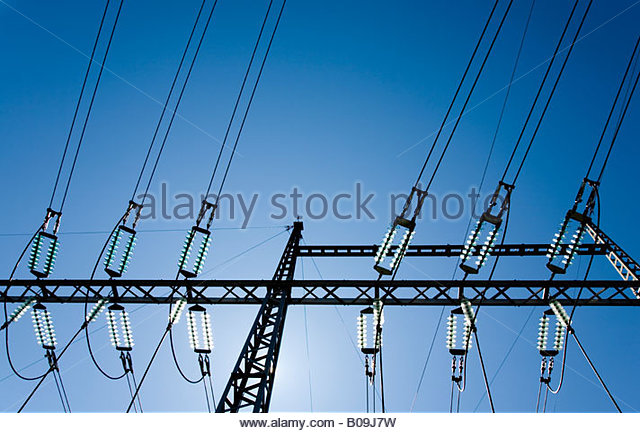isolator: (460, 220, 501, 267), (545, 218, 586, 265), (372, 227, 416, 270), (176, 229, 213, 274), (102, 229, 139, 273), (27, 236, 61, 272), (103, 310, 135, 348), (185, 311, 215, 350), (30, 310, 59, 346), (536, 316, 564, 350), (445, 315, 472, 349), (356, 315, 384, 347), (6, 297, 36, 324), (84, 299, 109, 324), (549, 300, 572, 327), (459, 299, 478, 327), (168, 298, 185, 325), (371, 300, 384, 326)
